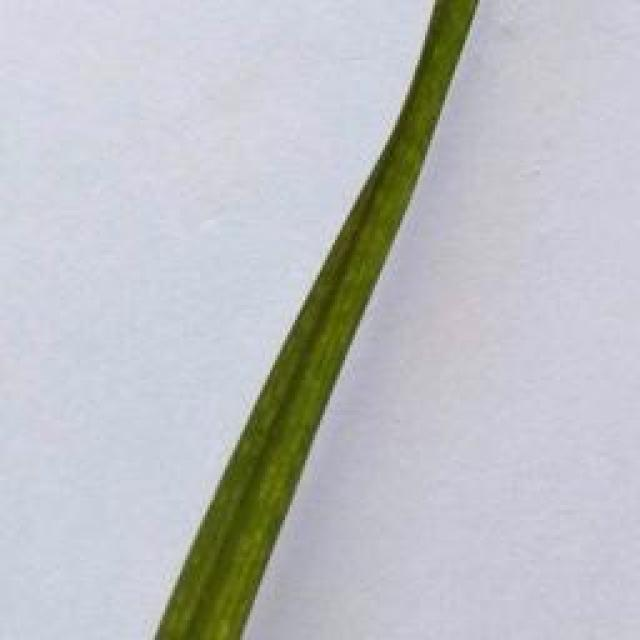Healthy-Plant: (153, 1, 480, 638)
